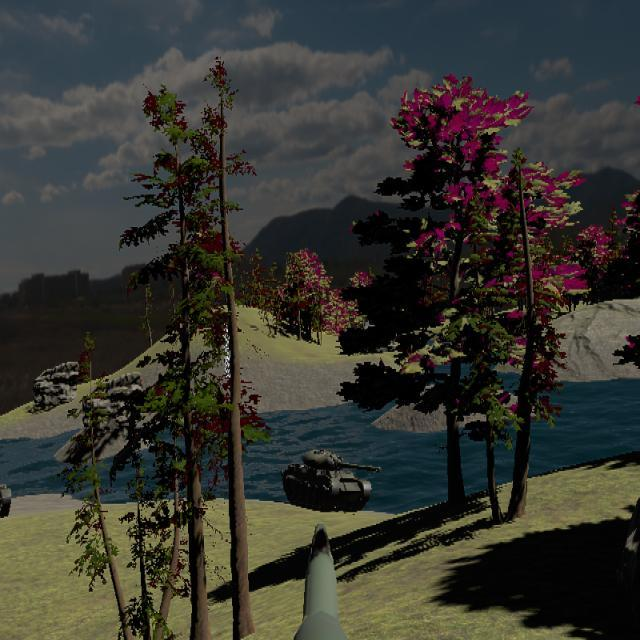Tank: (281, 445, 384, 514), (0, 469, 11, 522)
